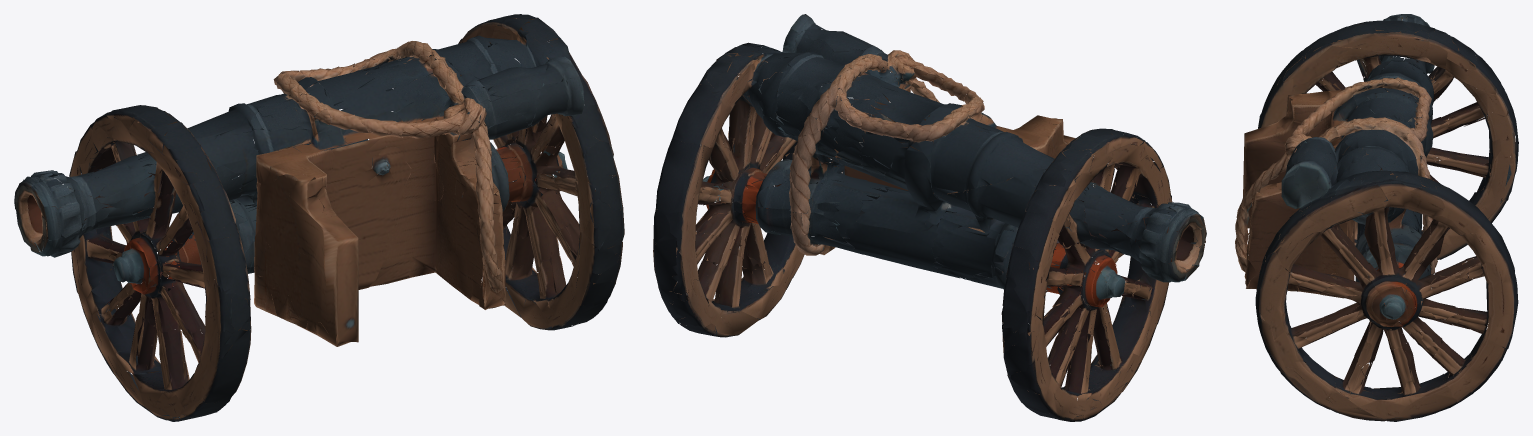
The model's file is cannone_forte_lod0.glb.
3 views of the same model, side by side, from view 1: azimuth 30°, elevation 25°; view 2: azimuth 150°, elevation 25°; view 3: azimuth 270°, elevation 25° (orthographic). The views are drawn at different scales.
Visible parts, largest first — view 1: Mesh_0.002; view 2: Mesh_0.002; view 3: Mesh_0.002.
Boxes of the visible parts, x1,y1,x2,y2 form: Mesh_0.002: (14,14,624,421); Mesh_0.002: (653,14,1206,421); Mesh_0.002: (1235,14,1518,421).
Bounding box in the file's own units: 2.38 × 1.3 × 1.33.
Materials: 1 (1 with a texture image).
